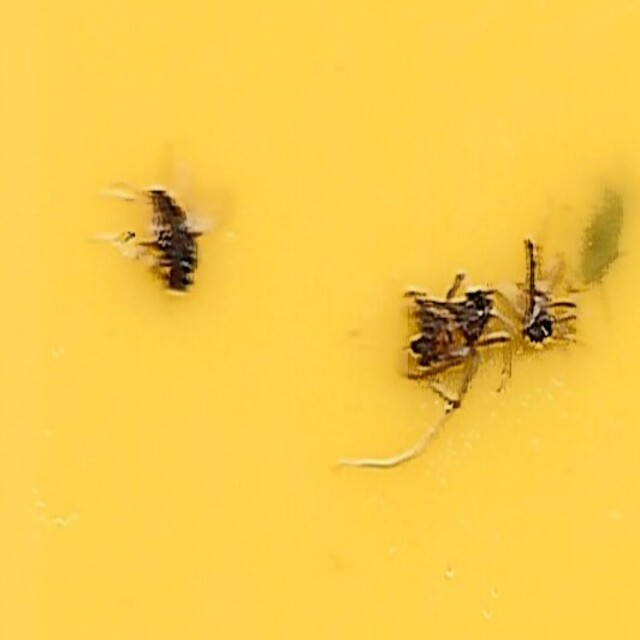Araneae: (328, 268, 520, 475)
Brachycera: (120, 165, 242, 298)
